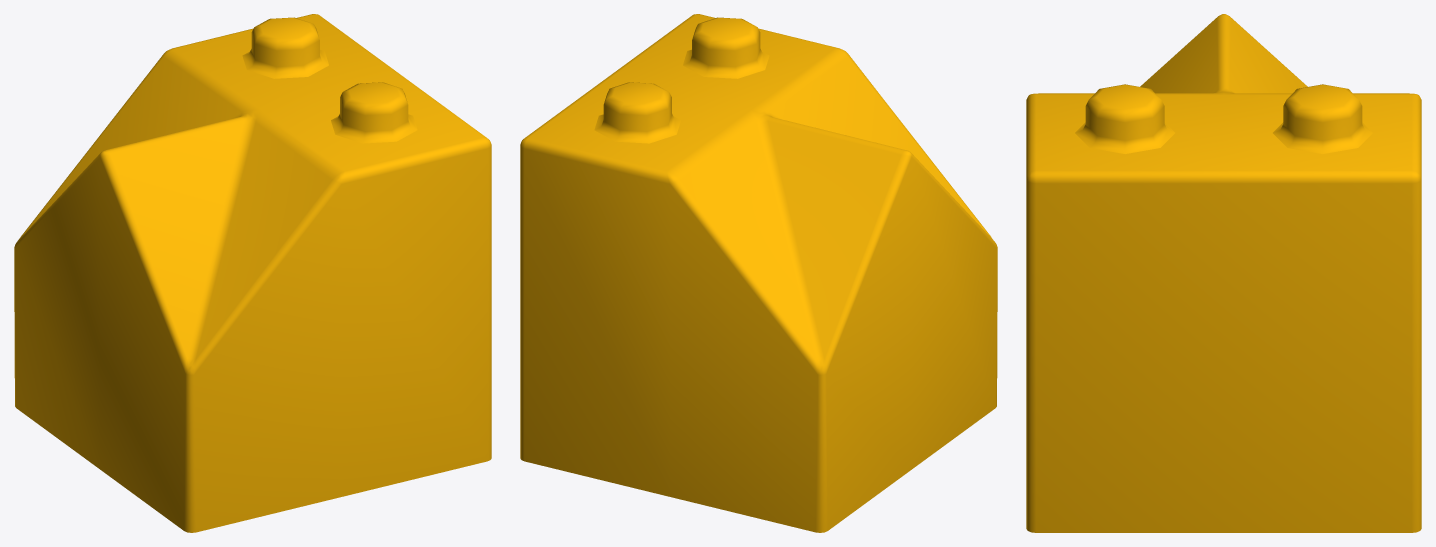
Rendered from Lowered_Two_Corner_Parallel.fbx.
The picture shows the model from 3 angles, left to right: view 1: azimuth 30°, elevation 25°; view 2: azimuth 150°, elevation 25°; view 3: azimuth 270°, elevation 25°; orthographic projection. The views are drawn at different scales.
Parts seen in each view (by area): view 1: Lowered_Two_Corner_Parallel, Knobs.004; view 2: Lowered_Two_Corner_Parallel, Knobs.004; view 3: Lowered_Two_Corner_Parallel, Knobs.004.
Boxes of the visible parts, x1,y1,x2,y2 form: Lowered_Two_Corner_Parallel: (14, 14, 491, 532); Knobs.004: (242, 17, 417, 143); Lowered_Two_Corner_Parallel: (520, 14, 997, 532); Knobs.004: (594, 17, 769, 143); Lowered_Two_Corner_Parallel: (1026, 14, 1421, 532); Knobs.004: (1075, 84, 1372, 153).
Size of the model in its own units: 1 by 1.1 by 1.
